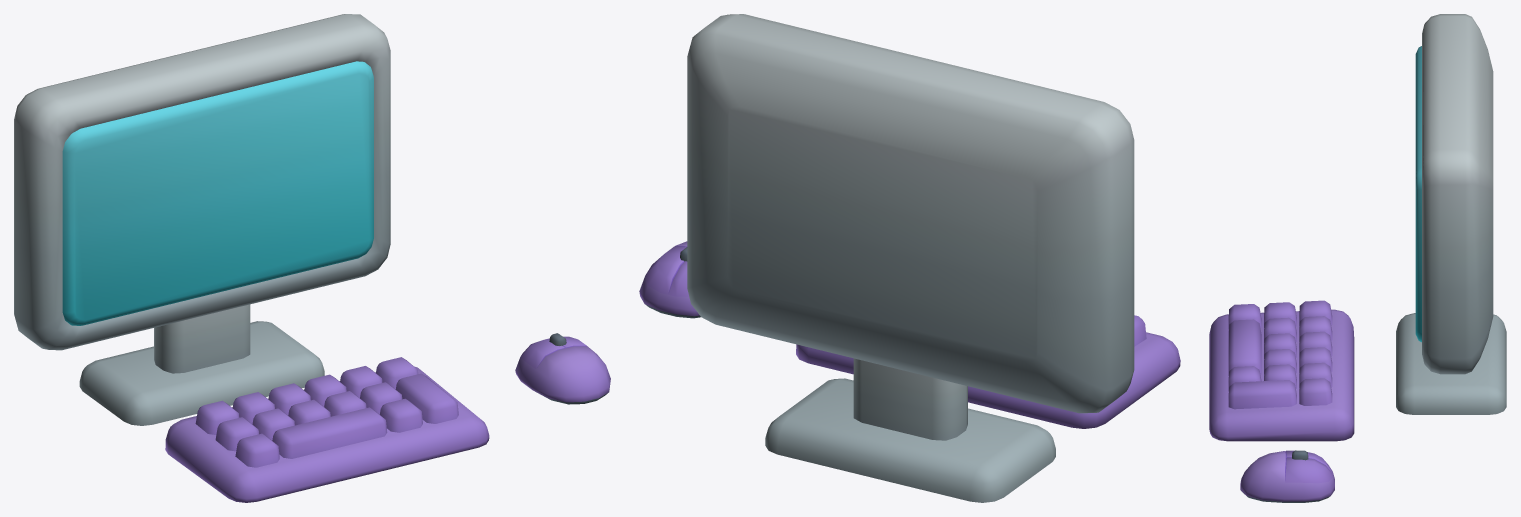
The model's file is Computer_01.glb.
3 views of the same model, side by side, from view 1: azimuth 30°, elevation 25°; view 2: azimuth 150°, elevation 25°; view 3: azimuth 270°, elevation 25° (orthographic). The views are drawn at different scales.
Parts seen in each view (by area): view 1: Computer_01, Keyboard_01, Mouse_01; view 2: Computer_01, Keyboard_01, Mouse_01; view 3: Computer_01, Keyboard_01, Mouse_01.
Boxes of the visible parts, x1,y1,x2,y2 form: Computer_01: (14, 14, 390, 425); Keyboard_01: (165, 357, 489, 502); Mouse_01: (515, 333, 610, 404); Computer_01: (687, 14, 1134, 502); Keyboard_01: (796, 315, 1180, 428); Mouse_01: (639, 241, 700, 318); Computer_01: (1396, 14, 1506, 414); Keyboard_01: (1209, 300, 1354, 441); Mouse_01: (1240, 450, 1334, 502).
Size of the model in its own units: 0.8129 by 0.5207 by 0.484.
Materials: 1 (1 with a texture image).
